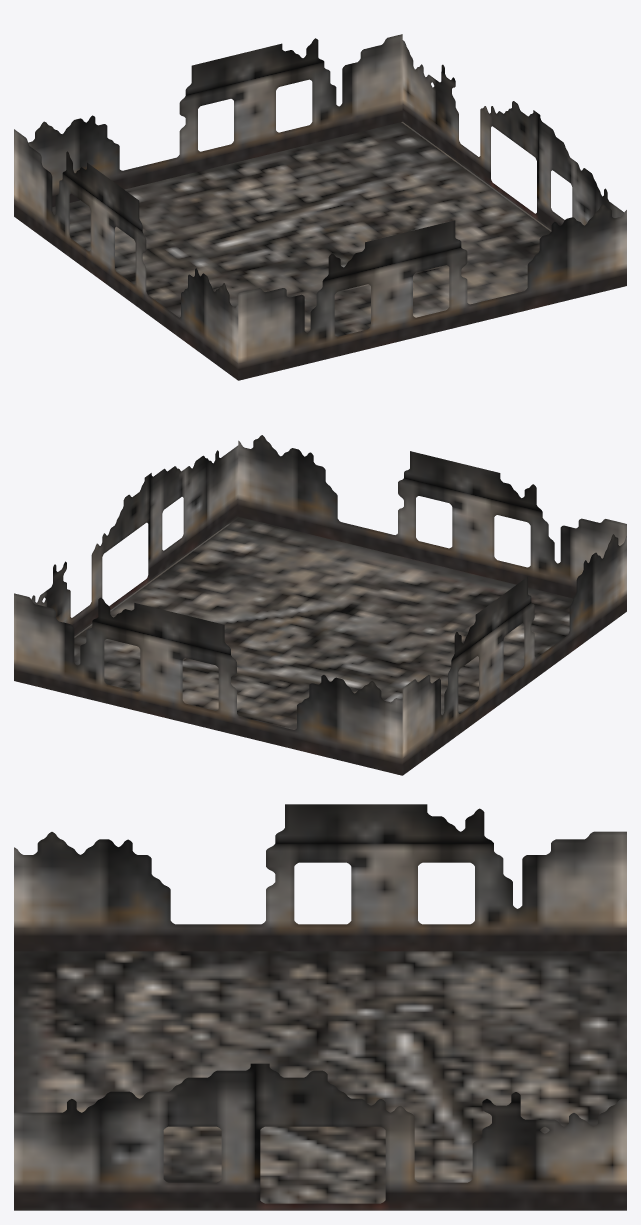
Rendered from city6storya_dam.glb.
3 views of the same model, one above another, from view 1: azimuth 30°, elevation 25°; view 2: azimuth 150°, elevation 25°; view 3: azimuth 270°, elevation 25° (orthographic). The views are drawn at different scales.
Parts seen in each view (by area): view 1: City2StoryA; view 2: City2StoryA; view 3: City2StoryA.
Part boxes in pixels (bbox=[...]): City2StoryA: bbox=[14, 34, 626, 380]; City2StoryA: bbox=[14, 435, 626, 775]; City2StoryA: bbox=[14, 804, 626, 1210].
Bounding box in the file's own units: 17.76 × 4.7 × 17.76.
1 material, 1 textured.
